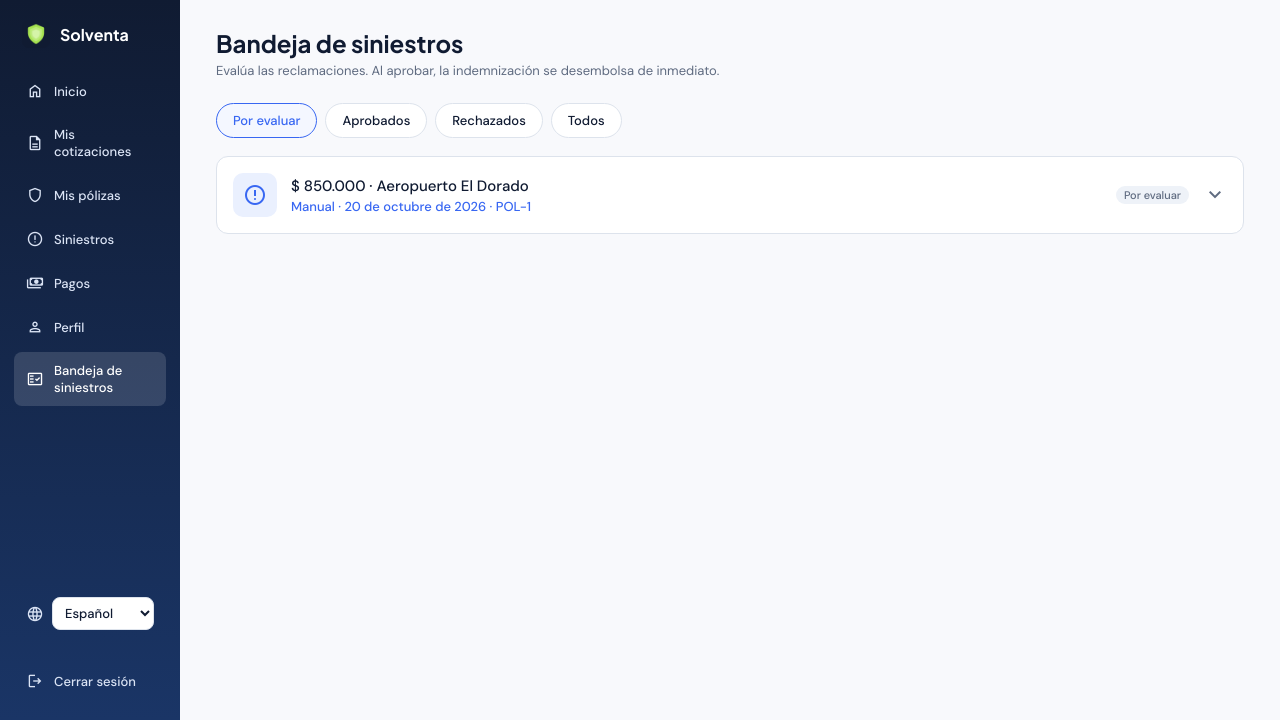
muestra el error del servidor al aprobar
Click the button "Aeropuerto El Dorado".
click(255, 195)  # box [217, 157, 1243, 233]
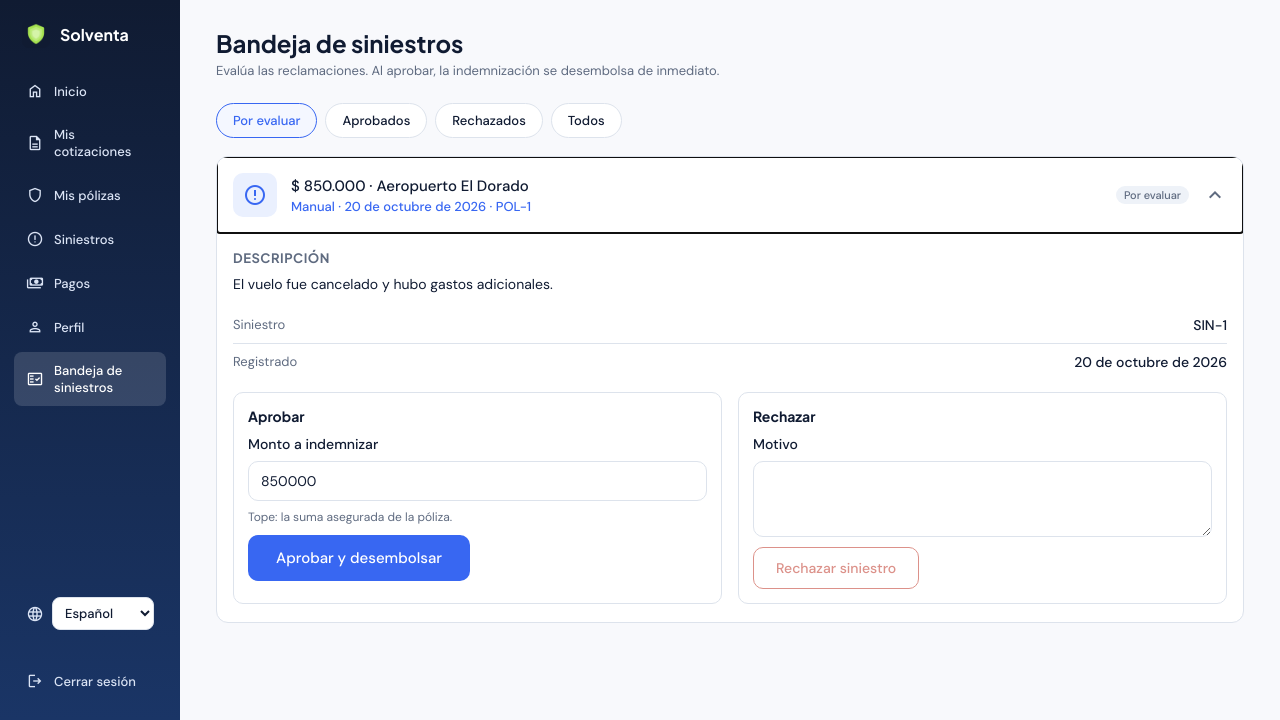
Click the button "Aprobar y desembolsar".
click(359, 558)  # box [248, 535, 470, 581]
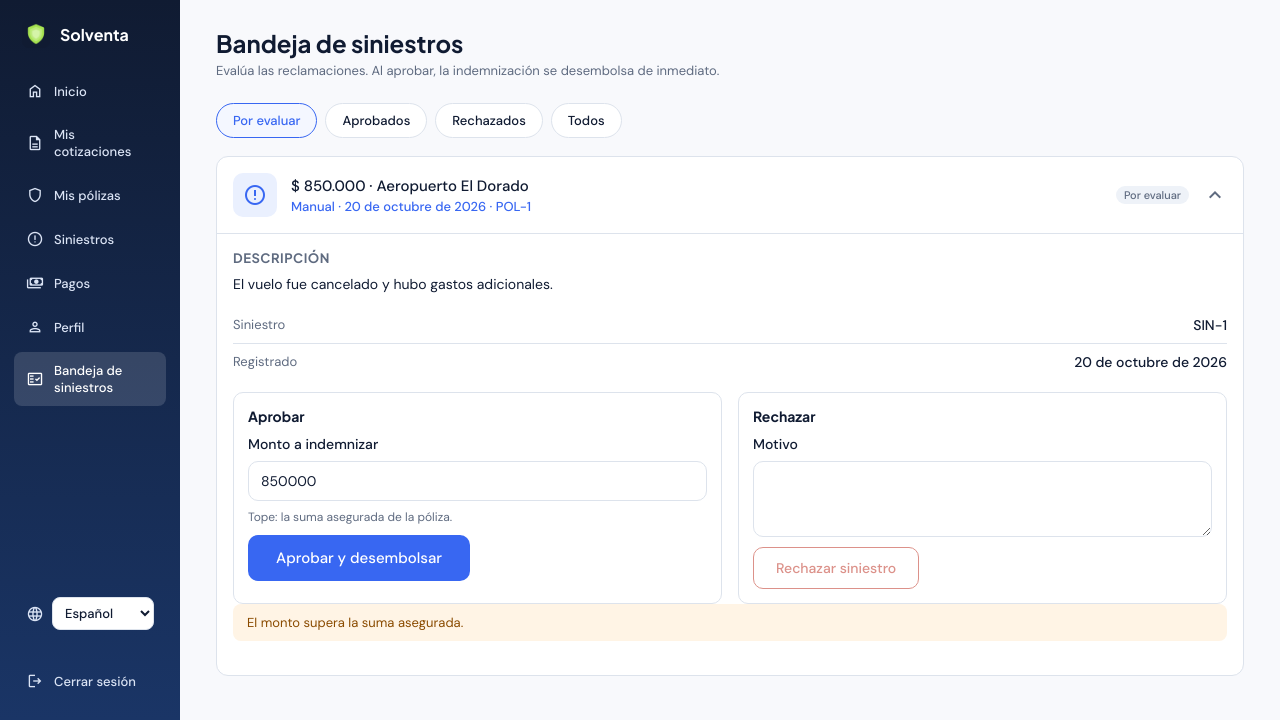
Result: the message reads "El monto supera la suma asegurada." at [247, 614, 463, 631]
